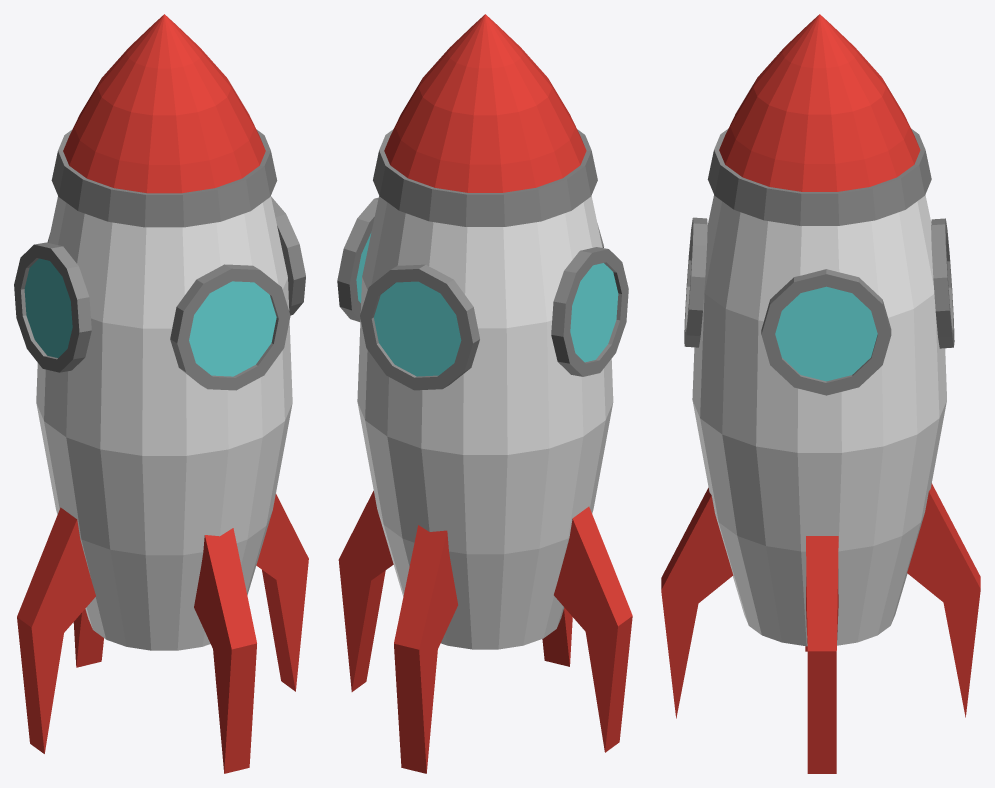
File: Space_rocket.fbx
The picture shows the model from 3 angles, left to right: view 1: azimuth 30°, elevation 25°; view 2: azimuth 150°, elevation 25°; view 3: azimuth 270°, elevation 25°; orthographic projection.
Parts seen in each view (by area): view 1: Circle.003; view 2: Circle.003; view 3: Circle.003.
Part boxes in pixels (left/top/right/bottom): Circle.003: left=14, top=14, right=308, bottom=773; Circle.003: left=337, top=14, right=632, bottom=773; Circle.003: left=661, top=14, right=980, bottom=773.
Size of the model in its own units: 465 by 1124 by 465.
